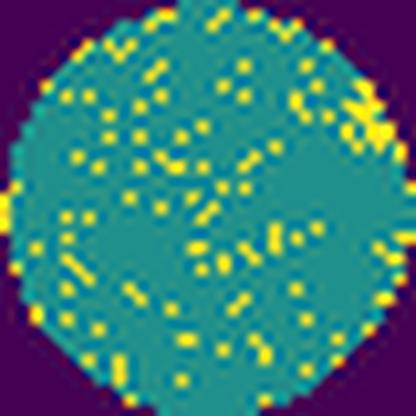Edge-Loc: (332, 73, 411, 170)
